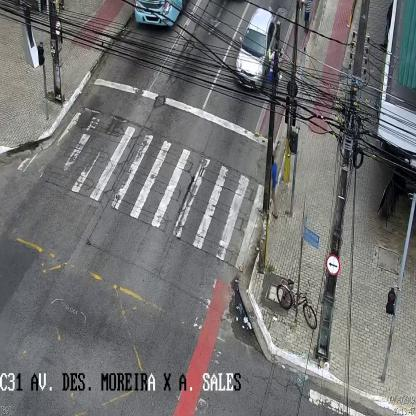bicycle: (276, 278, 318, 332)
car: (235, 7, 277, 89)
person: (270, 153, 278, 221)
